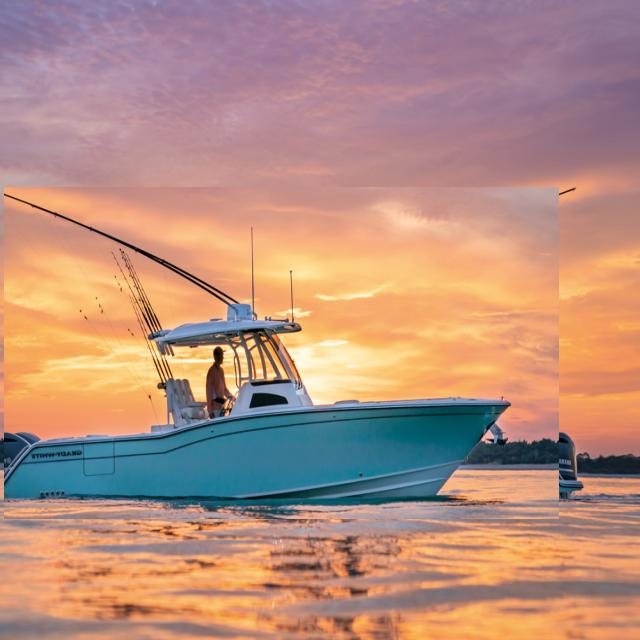Fishing Boat: (4, 187, 559, 519)
